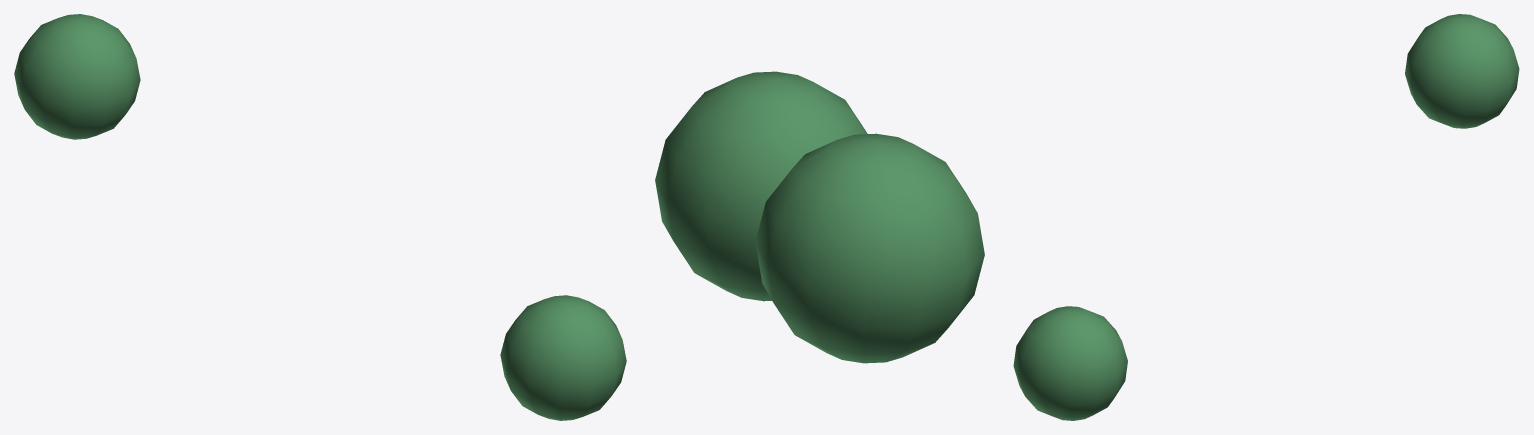
The picture shows the model from 3 angles, left to right: view 1: azimuth 30°, elevation 25°; view 2: azimuth 150°, elevation 25°; view 3: azimuth 270°, elevation 25°; orthographic projection. The views are drawn at different scales.
Parts seen in each view (by area): view 1: 右侧腹壁下淋巴结; view 2: 右侧腹壁下淋巴结; view 3: 右侧腹壁下淋巴结.
Part boxes in pixels (x1,y1,x2,y2): 右侧腹壁下淋巴结: (14,14,626,420); 右侧腹壁下淋巴结: (655,71,984,363); 右侧腹壁下淋巴结: (1013,14,1519,420).
Bounding box in the file's own units: 0.0133 × 0.0102 × 0.0169.
